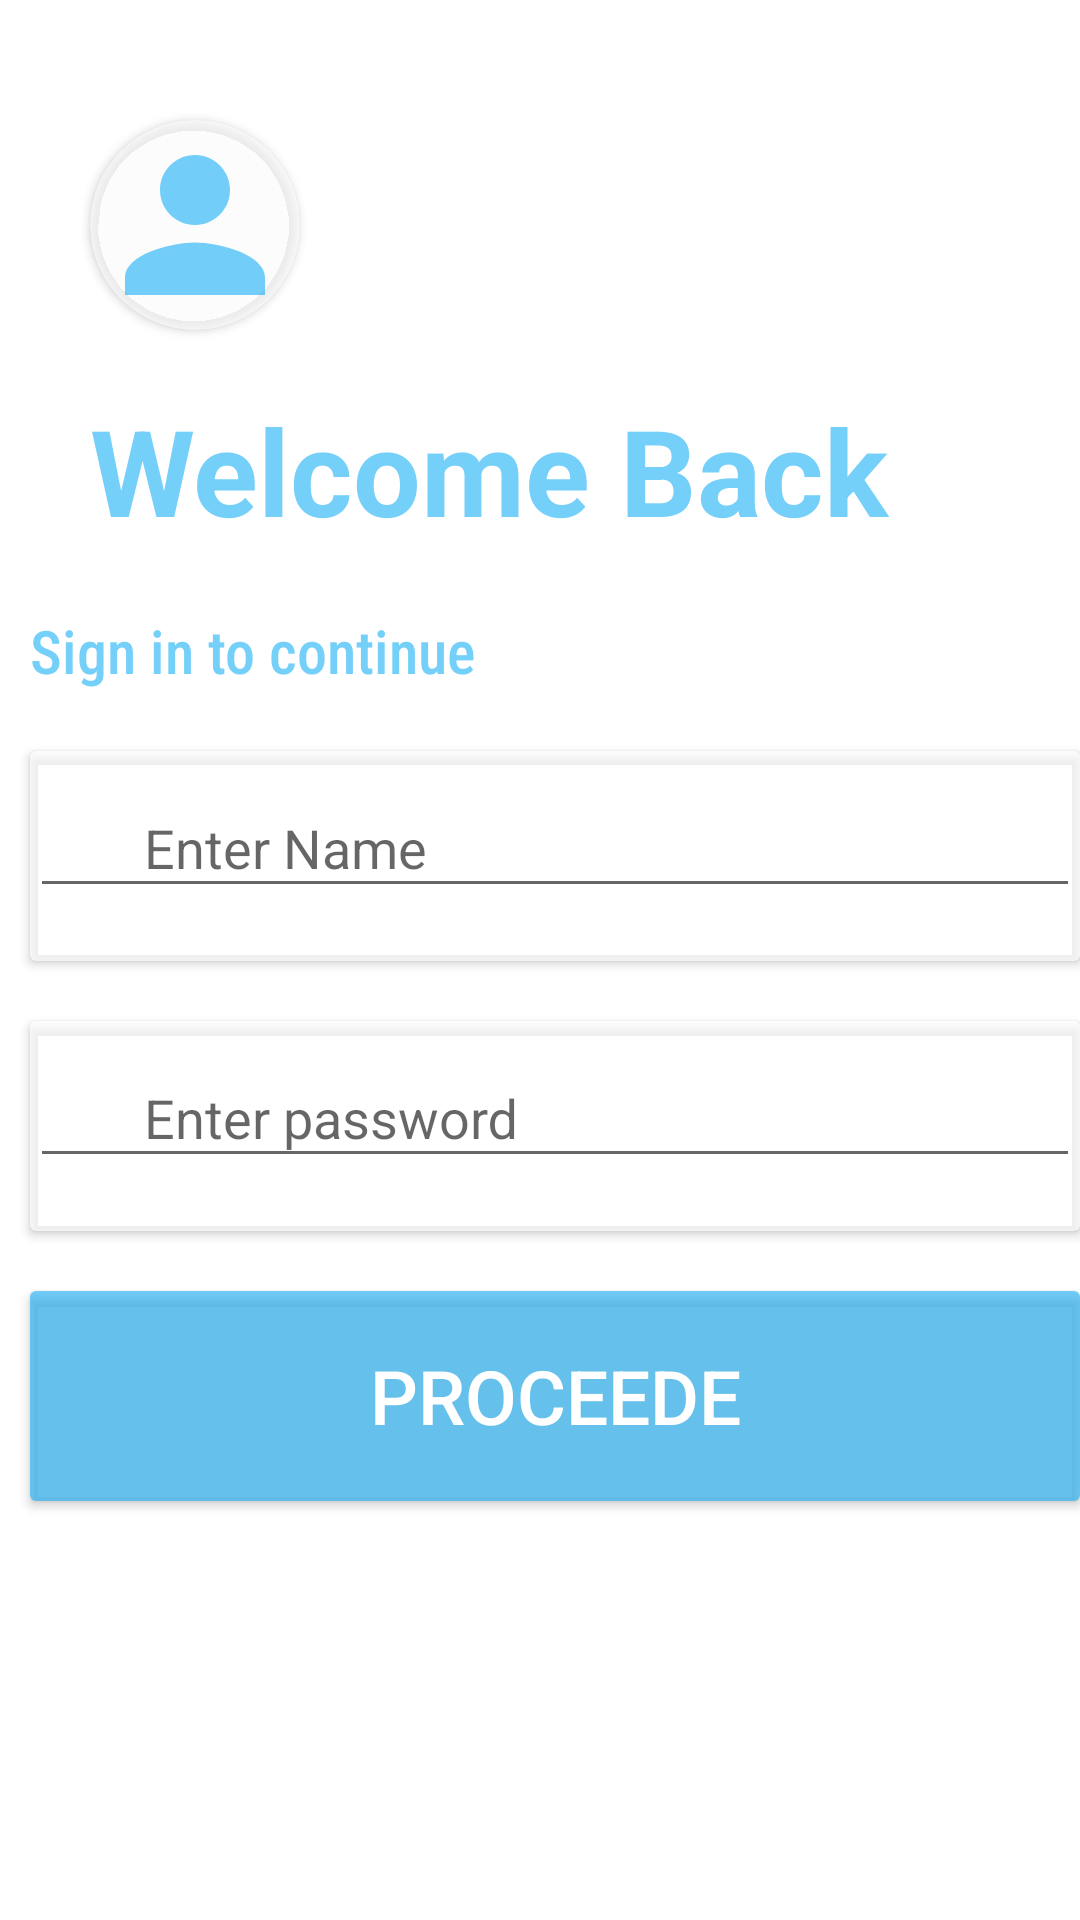

Screen size 1080 x 1920. Icon name, then its box in pixels as [x1,y1,x2,y2]:
person login: [90,155,265,330]
